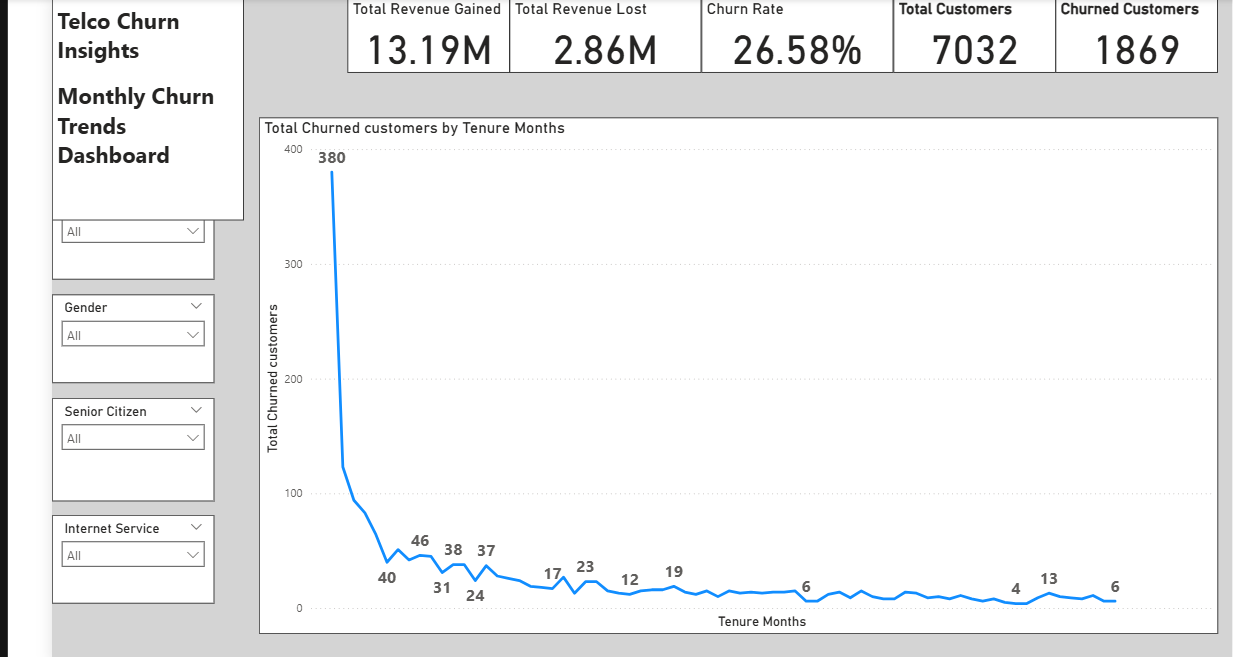

This screenshot's page, from the dashboard's own definition file:
{"tool":"powerbi","page":{"name":"Trends Analysis","canvas":[1280,720],"ordinal":2},"visuals":[{"type":"lineChart","fields":{"Y":["My Measures.Total Churned customers"],"Category":["Telco Customer Churn.Tenure Months"]},"box":[224,128,1040,560],"z":0},{"type":"card","title":"Churn Rate","fields":{"Values":["My Measures.Churn rate"]},"box":[704,0,208,80],"z":1000},{"type":"card","title":"Total Customers","fields":{"Values":["My Measures.Total Customers"]},"box":[912,0,176,80],"z":2000},{"type":"card","title":"Churned Customers","fields":{"Values":["My Measures.Total Churned customers"]},"box":[1088,0,176,80],"z":3000},{"type":"card","title":"Total Revenue Lost","fields":{"Values":["My Measures.Total Revenue lost"]},"box":[496,0,208,80],"z":4000},{"type":"card","title":"Total Revenue Gained","fields":{"Values":["My Measures.Total Revenue"]},"box":[320,0,176,80],"z":5000},{"type":"slicer","fields":{"Values":["Telco Customer Churn.State Hierarchy.State","Telco Customer Churn.State Hierarchy.City"]},"box":[0,208,176,96],"z":6000},{"type":"slicer","fields":{"Values":["Telco Customer Churn.Gender"]},"box":[0,320,176,96],"z":7000},{"type":"slicer","fields":{"Values":["Telco Customer Churn.Senior Citizen"]},"box":[0,432,176,112],"z":8000},{"type":"slicer","fields":{"Values":["Telco Customer Churn.Internet Service"]},"box":[0,560,176,96],"z":9000},{"type":"textbox","box":[0,0,208,240],"z":10000}]}

Visuals, with their boxes on the page's 1280x720 design canvas (x1, y1, x2, y2). These are canvas units, not pixel positions in the 1233x657 screenshot, which may show the page scaled, cropped or inside an application window:
lineChart - My Measures.Total Churned customers x Telco Customer Churn.Tenure Months: <bbox>224, 128, 1264, 688</bbox>
"Churn Rate" card: <bbox>704, 0, 912, 80</bbox>
"Total Customers" card: <bbox>912, 0, 1088, 80</bbox>
"Churned Customers" card: <bbox>1088, 0, 1264, 80</bbox>
"Total Revenue Lost" card: <bbox>496, 0, 704, 80</bbox>
"Total Revenue Gained" card: <bbox>320, 0, 496, 80</bbox>
slicer - Telco Customer Churn.State Hierarchy.State x Telco Customer Churn.State Hierarchy.City: <bbox>0, 208, 176, 304</bbox>
slicer - Telco Customer Churn.Gender: <bbox>0, 320, 176, 416</bbox>
slicer - Telco Customer Churn.Senior Citizen: <bbox>0, 432, 176, 544</bbox>
slicer - Telco Customer Churn.Internet Service: <bbox>0, 560, 176, 656</bbox>
textbox: <bbox>0, 0, 208, 240</bbox>
